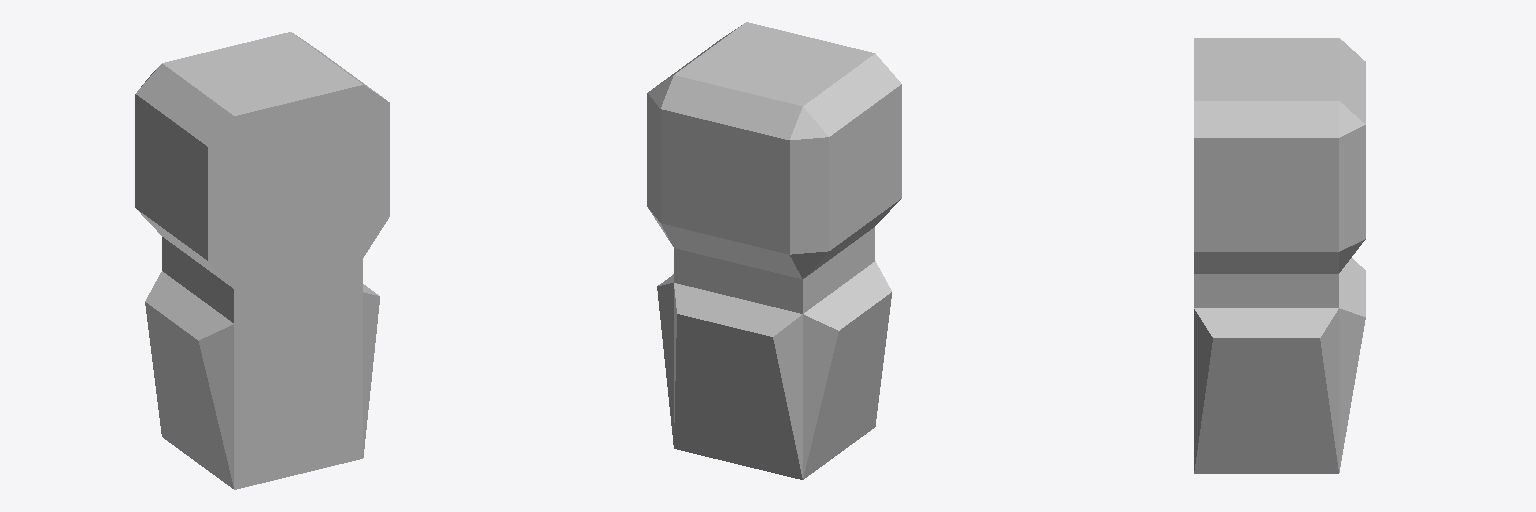
Rendered from multi_left_arm.obj.
3 views of the same model, side by side, from view 1: azimuth 30°, elevation 25°; view 2: azimuth 150°, elevation 25°; view 3: azimuth 270°, elevation 25° (orthographic).
Parts seen in each view (by area): view 1: Cube.003; view 2: Cube.003; view 3: Cube.003.
Part boxes in pixels (x1,y1,x2,y2): Cube.003: (135, 32, 389, 489); Cube.003: (647, 22, 901, 479); Cube.003: (1194, 38, 1365, 473).
Bounding box in the file's own units: 5.5 × 10.8 × 4.5.